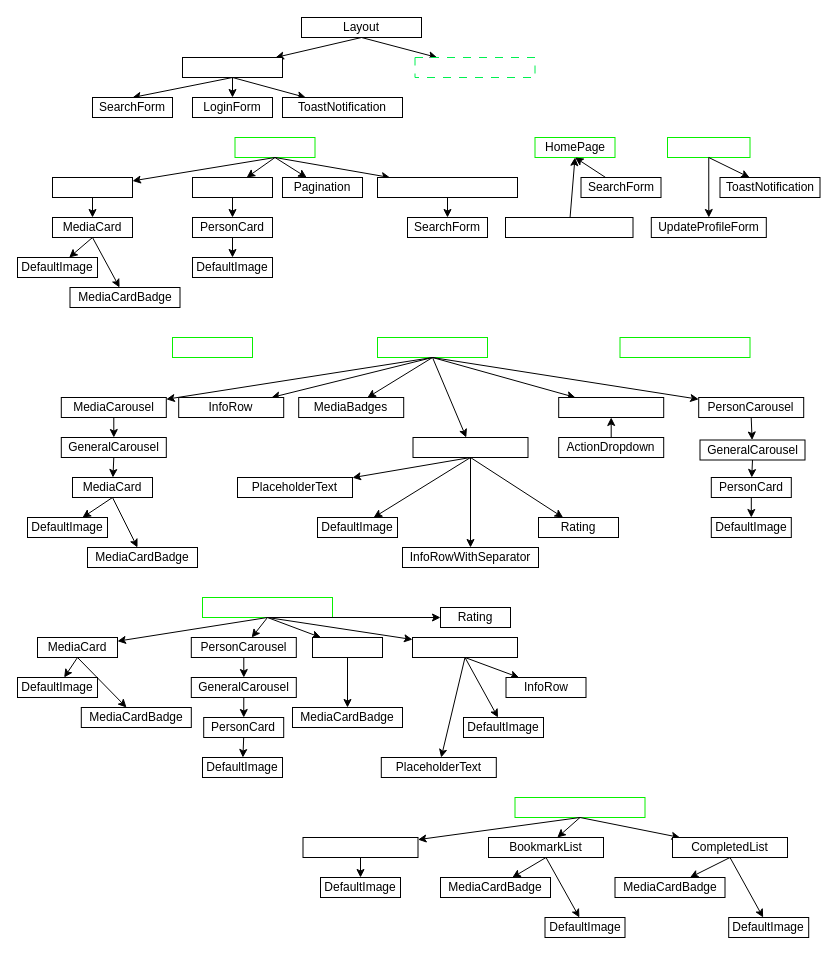
The diagram is 838 pixels wide and 955 high, and some of its shapes have lost their labels. The centre of each missing label's shape, as x and y in pixels:
"AdvancedSearchForm" belongs at pixel 447 187.
"BackgroundContainer" belongs at pixel 568 227.
"CreditsList" belongs at pixel 347 647.
"FollowingList" belongs at pixel 360 847.
"MediaActions" belongs at pixel 611 407.
"MediaDetailPage" belongs at pixel 432 347.
"MediaGrid" belongs at pixel 92 187.
"MediaInfromation" belongs at pixel 470 447.
"NavBar" belongs at pixel 232 67.
"NotFoundPage" belongs at pixel 684 347.
"Pages" belongs at pixel 474 67.
"PersonDetailPage" belongs at pixel 267 607.
"PersonGrid" belongs at pixel 232 187.
"PersonInformation" belongs at pixel 465 647.
"ProfilePage" belongs at pixel 708 147.
"SearchPage" belongs at pixel 274 147.
"SignUpPage" belongs at pixel 212 347.
"UserListPage" belongs at pixel 579 807.
